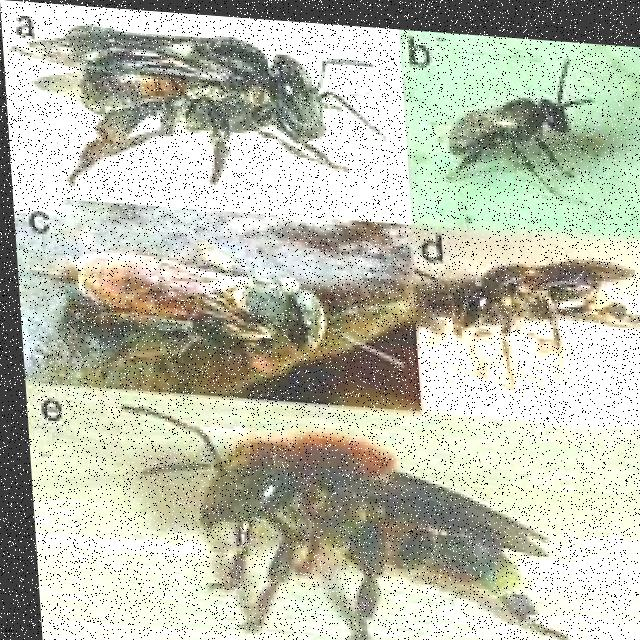Meliponula: (132, 396, 595, 640), (24, 4, 377, 198), (44, 230, 346, 367), (448, 220, 635, 384), (435, 49, 598, 182)
